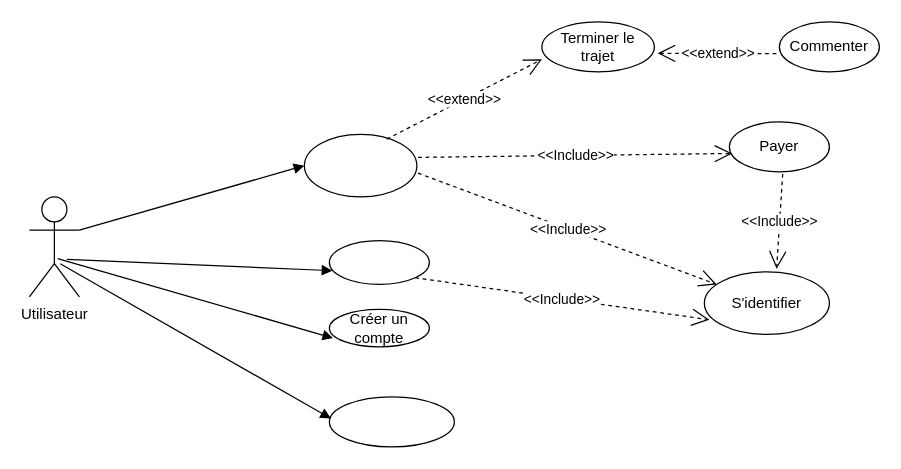
Image size: 901x469. Some labels were removed from this diagram. Here are the shapes that lost their labels. From the top down, the centre of each, then its label:
point (360, 165): Réserver un trajet
point (378, 261): Gérer profil
point (391, 421): Rechercher des trajets
